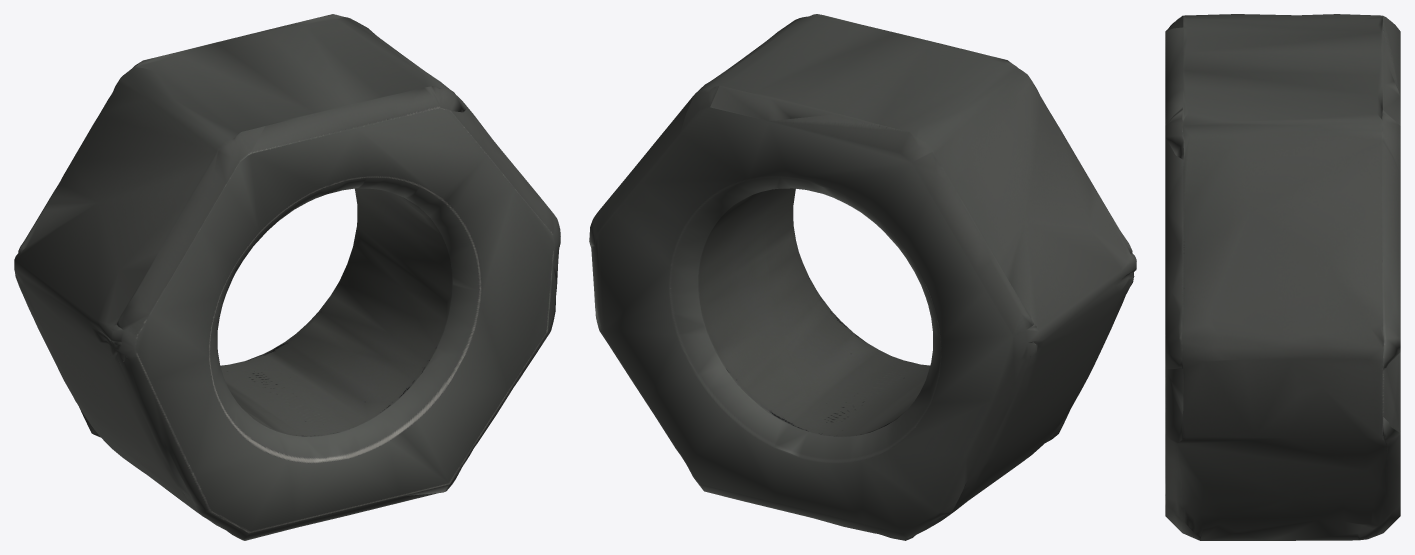
The model's file is 15_debris_nut.fbx.
3 views of the same model, side by side, from view 1: azimuth 30°, elevation 25°; view 2: azimuth 150°, elevation 25°; view 3: azimuth 270°, elevation 25° (orthographic).
Visible parts, largest first — view 1: 15_debris_nut; view 2: 15_debris_nut; view 3: 15_debris_nut.
Part boxes in pixels (bbox=[...]): 15_debris_nut: bbox=[14, 14, 560, 540]; 15_debris_nut: bbox=[589, 14, 1136, 540]; 15_debris_nut: bbox=[1165, 14, 1400, 540].
Size of the model in its own units: 0.1 by 0.0873 by 0.0446.
Materials: 1 (1 with a texture image).
